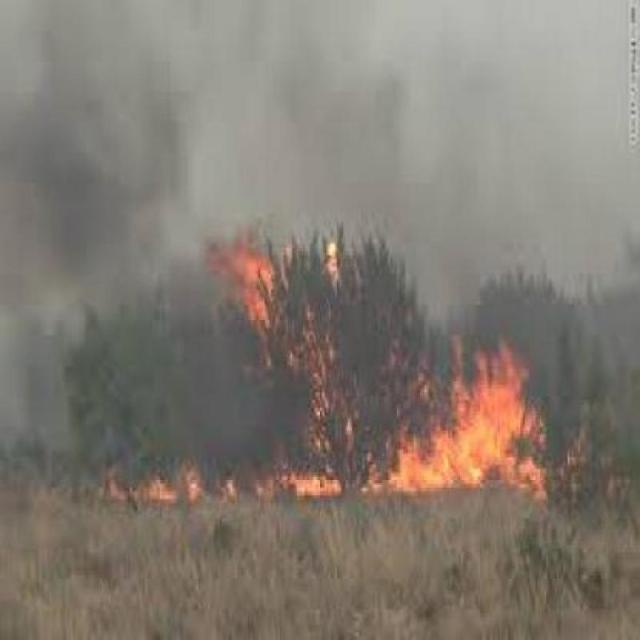Fire: (362, 368, 552, 516), (66, 454, 357, 520), (227, 236, 290, 354)
